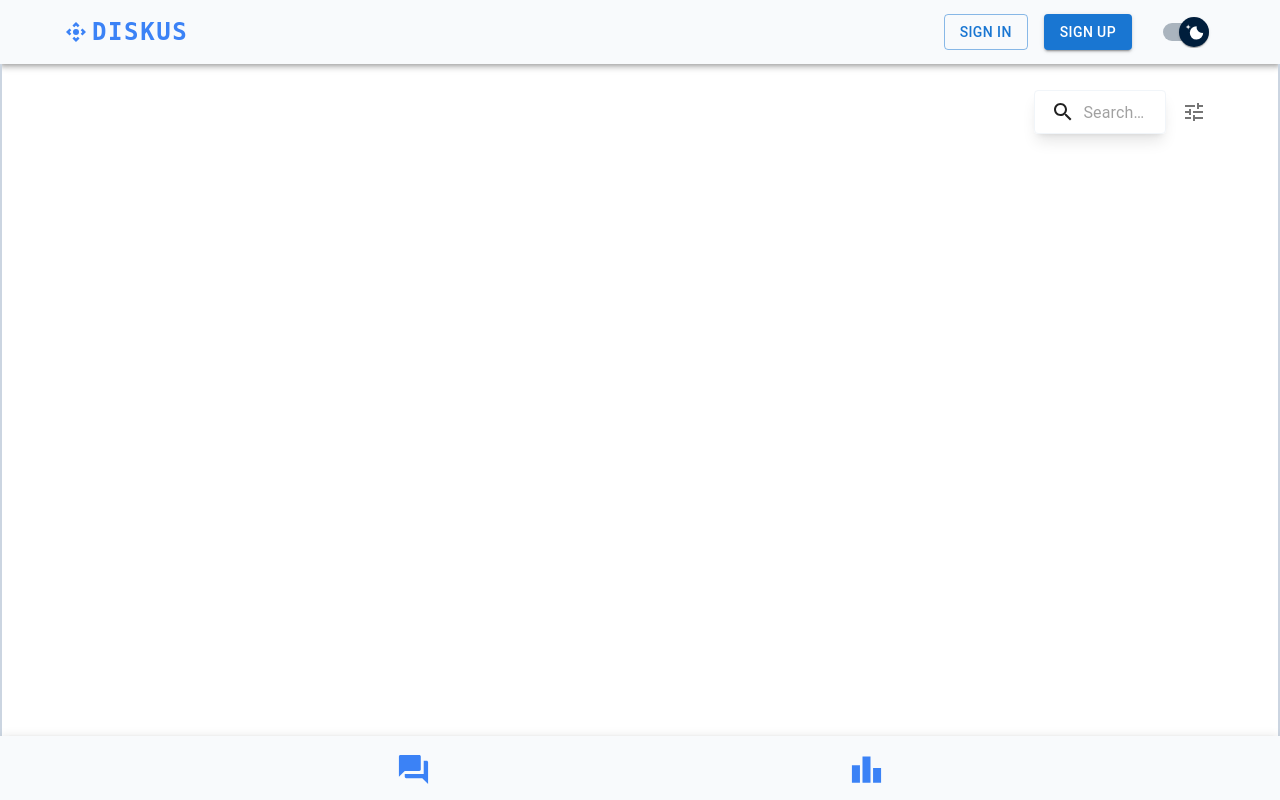
Test: Register spec › should display register page correctly
Click the button "SIGN UP" at (1088, 33), box [1044,14,1132,51]
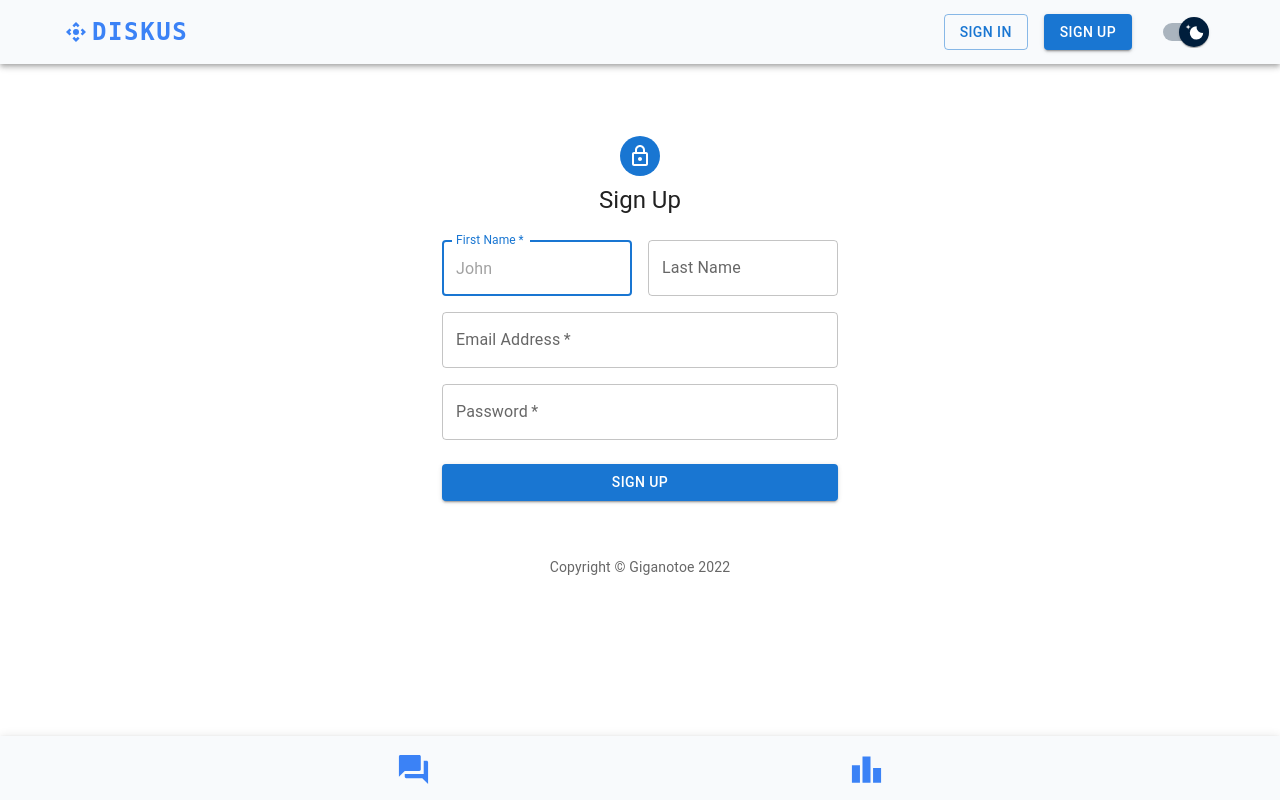
Expected: the heading "Sign Up" is shown, [599,184,681,216]
Expected: the element showing "First Name *" is shown, [426,224,632,296]
Expected: the field named "firstName" is shown, [442,240,632,296]
